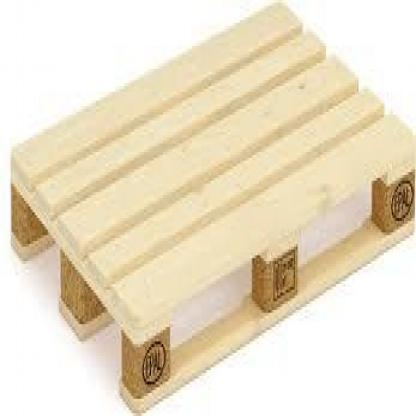BoxFace: (9, 1, 415, 415)
